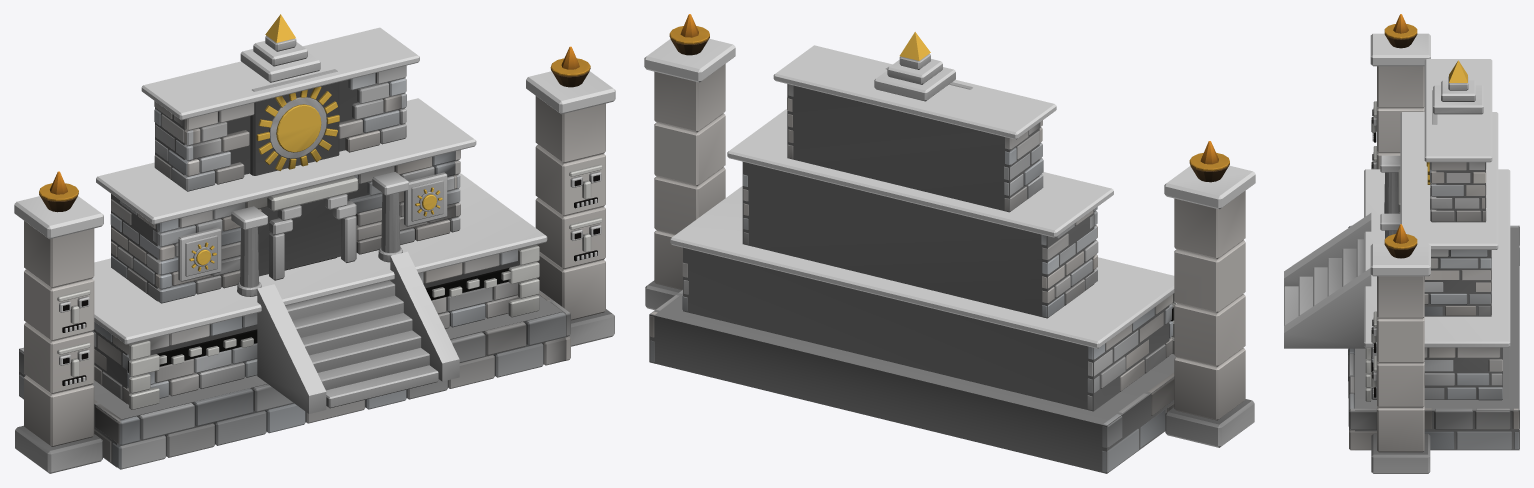
The model's file is HeroTempleFacade.fbx.
3 renders of one model, left to right at view 1: azimuth 30°, elevation 25°; view 2: azimuth 150°, elevation 25°; view 3: azimuth 270°, elevation 25°, orthographic. The views are drawn at different scales.
Parts seen in each view (by area): view 1: HeroTempleFacade__Limestone, HeroTempleFacade__Paint; view 2: HeroTempleFacade__Limestone, HeroTempleFacade__Paint; view 3: HeroTempleFacade__Limestone, HeroTempleFacade__Paint, HeroTempleFacade__Ember.
Part boxes in pixels (<box>): HeroTempleFacade__Limestone: <box>14,27,615,473</box>; HeroTempleFacade__Paint: <box>39,14,599,385</box>; HeroTempleFacade__Limestone: <box>644,38,1255,473</box>; HeroTempleFacade__Paint: <box>669,26,1229,321</box>; HeroTempleFacade__Limestone: <box>1284,33,1519,473</box>; HeroTempleFacade__Paint: <box>1371,24,1467,397</box>; HeroTempleFacade__Ember: <box>1393,14,1408,243</box>.
Size of the model in its own units: 9.82 by 5.85 by 4.19.
